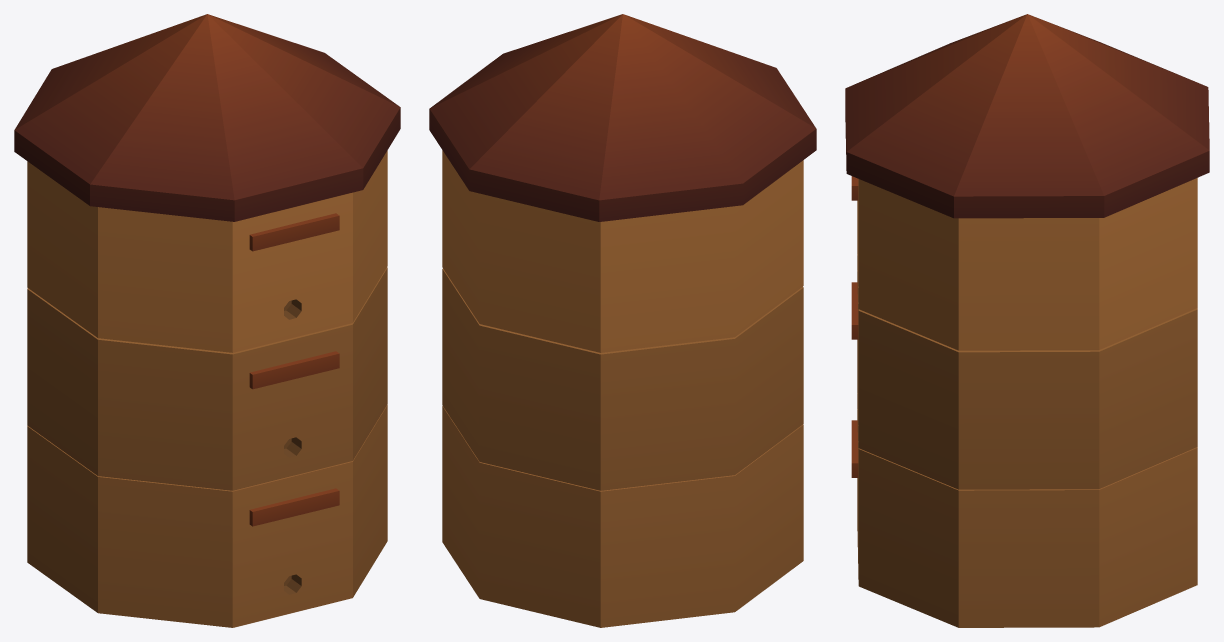
File: Bld_Beehive_03.obj
3 renders of one model, left to right at view 1: azimuth 30°, elevation 25°; view 2: azimuth 150°, elevation 25°; view 3: azimuth 270°, elevation 25°, orthographic.
Parts seen in each view (by area): view 1: Bld_Beehive_03; view 2: Bld_Beehive_03; view 3: Bld_Beehive_03.
Boxes of the visible parts, <box> form: Bld_Beehive_03: <box>14,14,400,627</box>; Bld_Beehive_03: <box>429,14,816,627</box>; Bld_Beehive_03: <box>845,14,1209,627</box>.
Size of the model in its own units: 0.6439 by 1.06 by 0.6439.
1 material, 1 textured.
